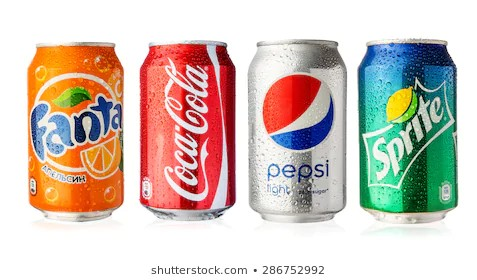coke-can: (136, 38, 240, 224)
pepsi-can: (245, 38, 350, 224)
